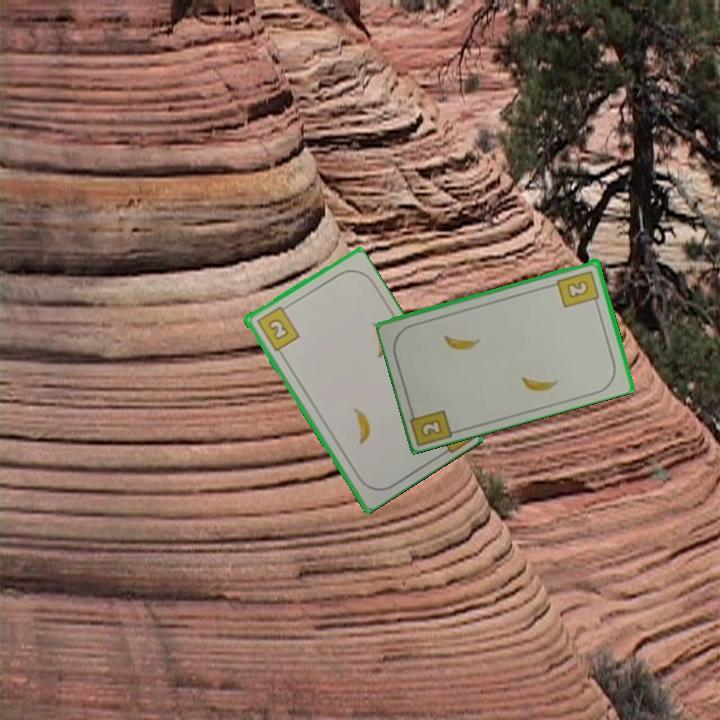2b: (253, 301, 302, 354), (406, 403, 457, 447), (554, 267, 602, 310)
